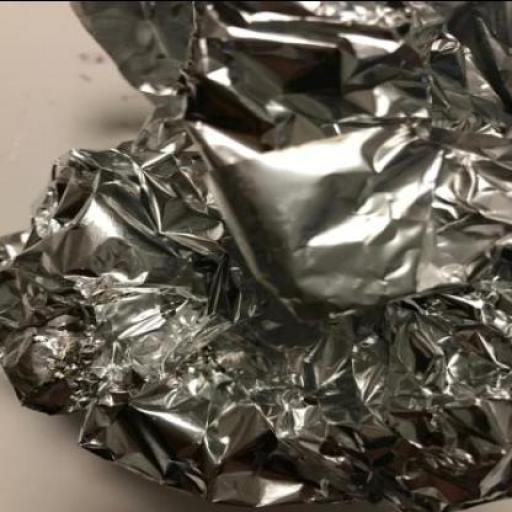metal: (0, 1, 511, 512)
